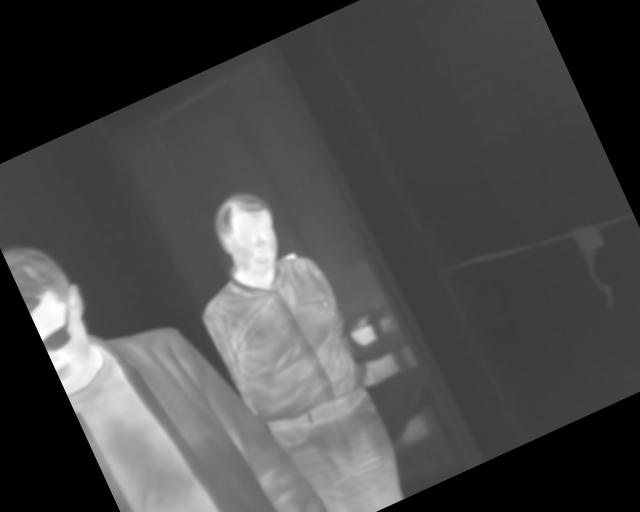face: (202, 181, 294, 287)
